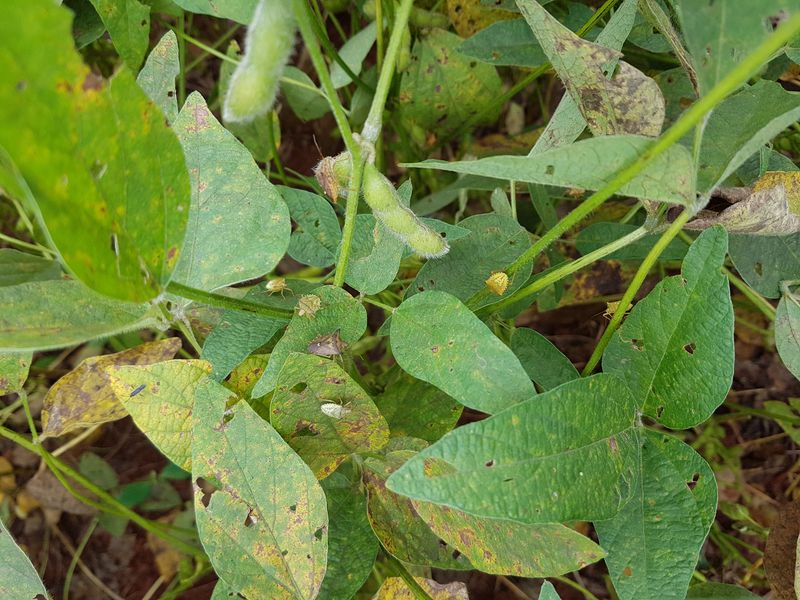Euschistus_heros_adulto: (299, 140, 358, 210), (303, 327, 354, 368)
Euschistus_heros_ninfa: (313, 390, 361, 431), (595, 292, 638, 330), (291, 289, 330, 328), (479, 264, 516, 303), (254, 271, 295, 305)
